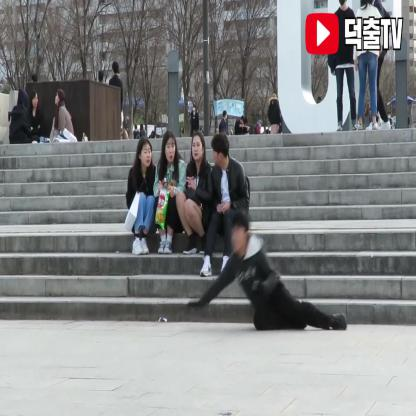Fall_Down: (182, 211, 352, 333)
